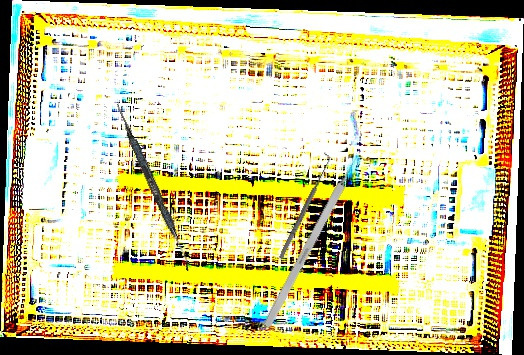Hook Surgical: (262, 148, 364, 329), (273, 151, 335, 262)
Spatula Surgical: (110, 102, 197, 272)
